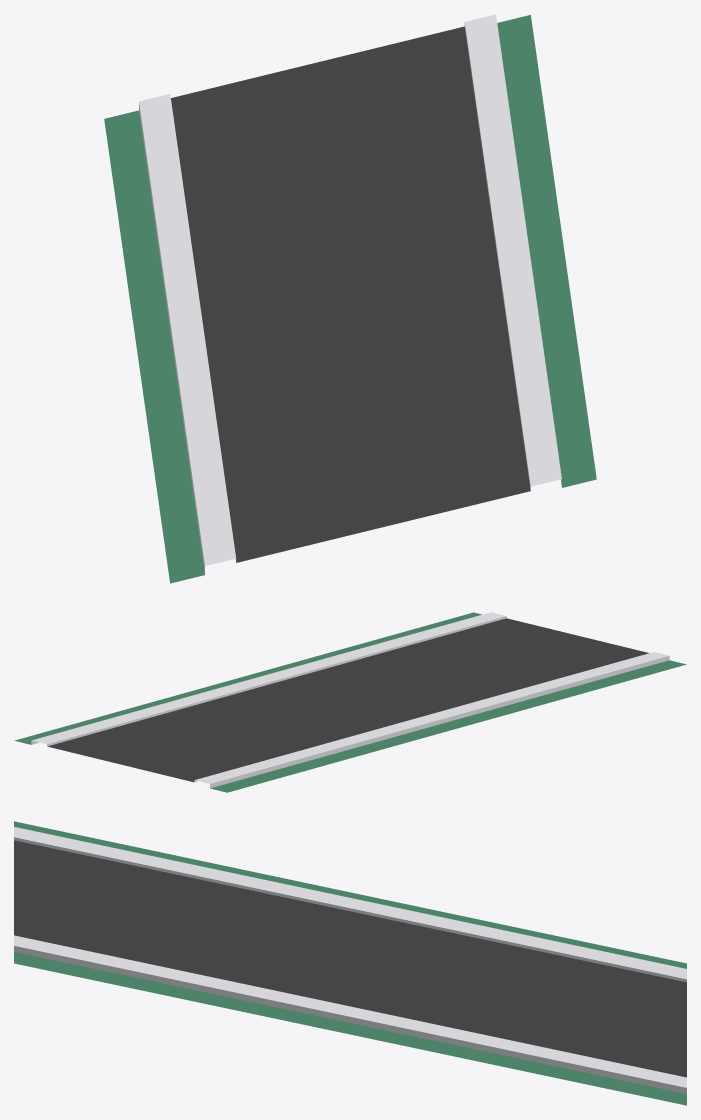
The model's file is roadStraightSkew.obj.
3 renders of one model, top to bottom at view 1: azimuth 30°, elevation 25°; view 2: azimuth 150°, elevation 25°; view 3: azimuth 270°, elevation 25°, orthographic. The views are drawn at different scales.
Parts seen in each view (by area): view 1: roadStraightSkew; view 2: roadStraightSkew; view 3: roadStraightSkew.
Boxes of the visible parts, box(x1,y1,x2,y2) form: roadStraightSkew: box(104, 14, 596, 583); roadStraightSkew: box(14, 612, 686, 792); roadStraightSkew: box(14, 821, 686, 1105).
Bounding box in the file's own units: 2 × 0.02 × 2.
